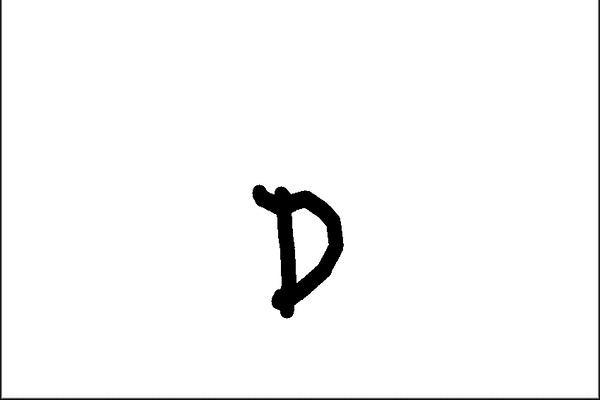D: (244, 175, 353, 334)
